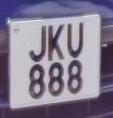8: (26, 60, 48, 104), (46, 58, 67, 102), (65, 57, 86, 100)
J: (27, 22, 48, 63)
K: (46, 19, 67, 64)
U: (66, 19, 86, 63)
